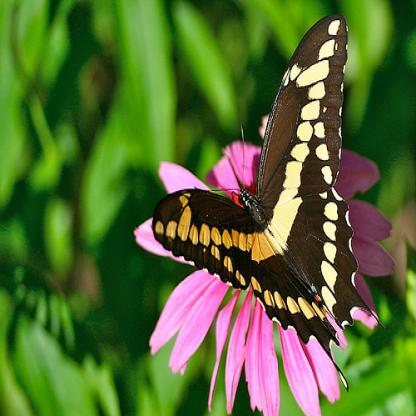Giant Swallowtail: (132, 1, 410, 401)
